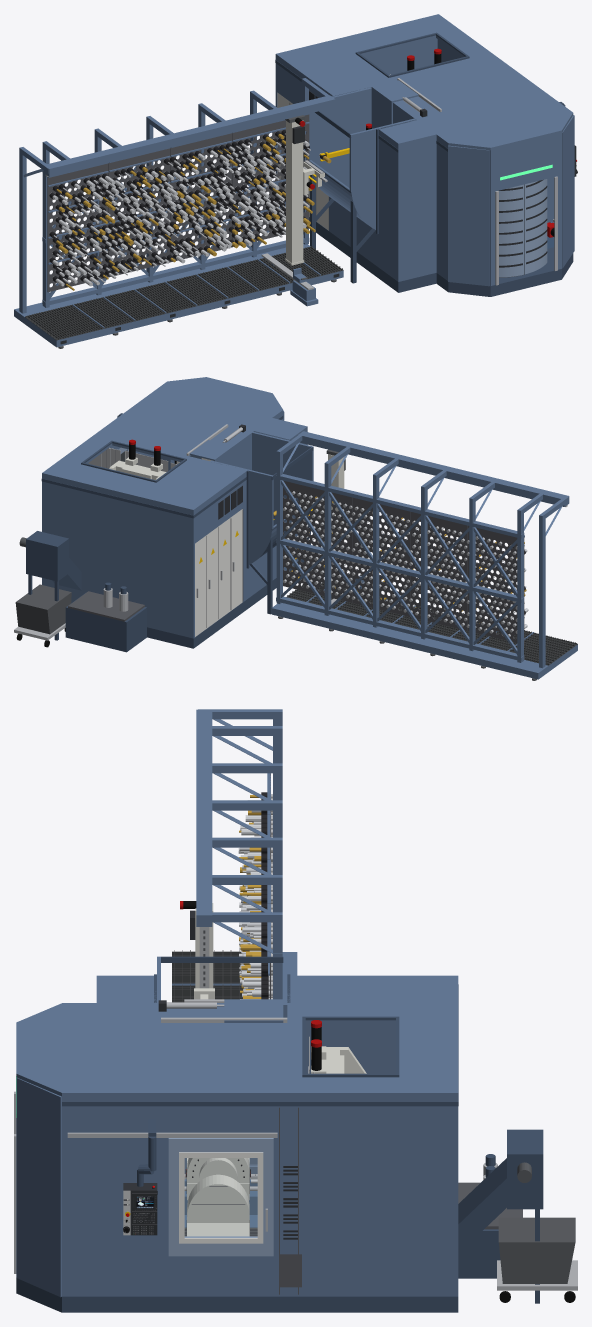
The model's file is hmc_x800_5ax_blue_right_sidemag.glb.
3 renders of one model, top to bottom at view 1: azimuth 30°, elevation 25°; view 2: azimuth 150°, elevation 25°; view 3: azimuth 270°, elevation 25°, orthographic. The views are drawn at different scales.
Visible parts, largest first — view 1: enclosure__fms_blue, apc_housing__fms_blue, twm_frame__fms_blue, twm_tools__holder, twm_frame__anthracite_lt, twm_tools__tool_bright, twm_base__grating, tc_box__fms_blue, twm_base__fms_blue, twm_tools__tool_gold, enclosure__fms_blue_dk, mag_loader__struct_grey (+11 smaller); view 2: enclosure__fms_blue, twm_frame__fms_blue, twm_frame__anthracite_lt, chip_coolant__fms_blue_dk, twm_tools__steel, twm_base__fms_blue, electrical_cabinet__hmc_white, tc_box__fms_blue, enclosure__fms_blue_dk, twm_base__grating, apc_housing__fms_blue, chip_cart__steel_dark (+8 smaller); view 3: enclosure__fms_blue, apc_housing__fms_blue, twm_frame__fms_blue, enclosure__fms_blue_dk, chip_coolant__fms_blue_dk, operator_door__glass_clear, operator_door__door_blue, chip_cart__steel_dark, table__struct_grey, twm_tools__tool_bright, enclosure__steel, twm_base__grating (+10 smaller).
Boxes of the visible parts, <box> form: enclosure__fms_blue: <box>275,14,560,281</box>; apc_housing__fms_blue: <box>436,104,574,286</box>; twm_frame__fms_blue: <box>19,78,335,313</box>; twm_tools__holder: <box>49,129,309,286</box>; twm_frame__anthracite_lt: <box>47,114,309,292</box>; twm_tools__tool_bright: <box>52,133,310,286</box>; twm_base__grating: <box>25,246,343,340</box>; tc_box__fms_blue: <box>309,87,415,229</box>; twm_base__fms_blue: <box>14,244,343,347</box>; twm_tools__tool_gold: <box>56,134,315,290</box>; enclosure__fms_blue_dk: <box>275,32,469,292</box>; mag_loader__struct_grey: <box>285,120,304,265</box>; enclosure__fms_blue: <box>42,389,307,638</box>; twm_frame__fms_blue: <box>276,431,569,668</box>; twm_frame__anthracite_lt: <box>283,480,524,644</box>; chip_coolant__fms_blue_dk: <box>26,531,146,652</box>; twm_tools__steel: <box>283,491,517,637</box>; twm_base__fms_blue: <box>271,589,577,679</box>; electrical_cabinet__hmc_white: <box>195,509,242,636</box>; tc_box__fms_blue: <box>212,432,313,564</box>; enclosure__fms_blue_dk: <box>41,431,304,648</box>; twm_base__grating: <box>286,582,577,665</box>; apc_housing__fms_blue: <box>156,377,284,463</box>; chip_cart__steel_dark: <box>15,584,71,634</box>; enclosure__fms_blue: <box>96,975,458,1296</box>; apc_housing__fms_blue: <box>16,1003,96,1297</box>; twm_frame__fms_blue: <box>196,709,282,999</box>; enclosure__fms_blue_dk: <box>96,974,458,1312</box>; chip_coolant__fms_blue_dk: <box>458,1129,543,1303</box>; operator_door__glass_clear: <box>185,1158,256,1236</box>; operator_door__door_blue: <box>168,1138,273,1256</box>; chip_cart__steel_dark: <box>498,1217,575,1283</box>; table__struct_grey: <box>187,1158,249,1236</box>; twm_tools__tool_bright: <box>238,800,261,999</box>; enclosure__steel: <box>67,1002,287,1137</box>; twm_base__grating: <box>172,950,242,1002</box>.
Bounding box in the file's own units: 10.63 × 3.54 × 6.98.
23 materials, 2 textured.
